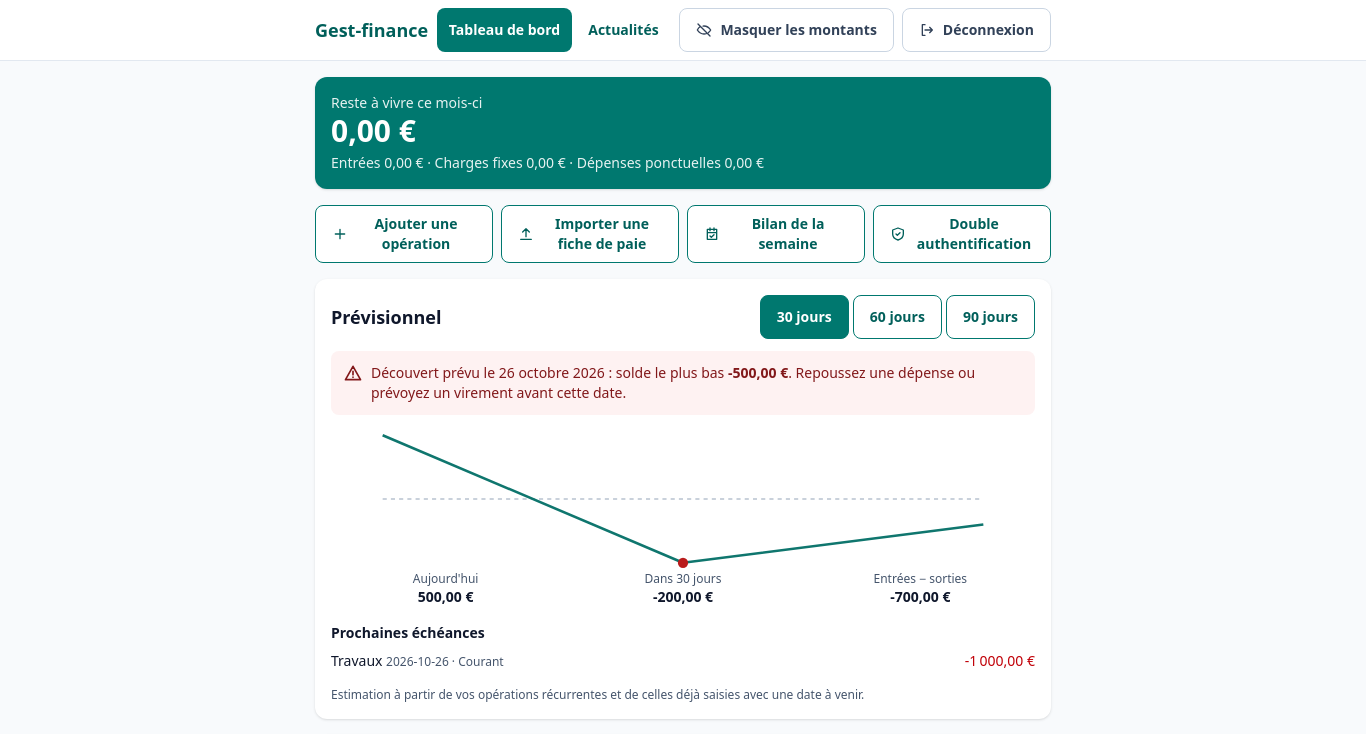
prévisionnel et objectifs › alerte d'un découvert prévu, change d'horizon et affiche les prochaines échéances
The width and height of the screenshot is (1366, 734).
Expected: the message shows "Découvert prévu le 26 octobre 2026", left=331, top=351, right=1035, bottom=415
Expected: the text "Travaux" is shown, left=331, top=651, right=382, bottom=670
Click the button "60 jours" at (897, 317), box left=853, top=295, right=942, bottom=339
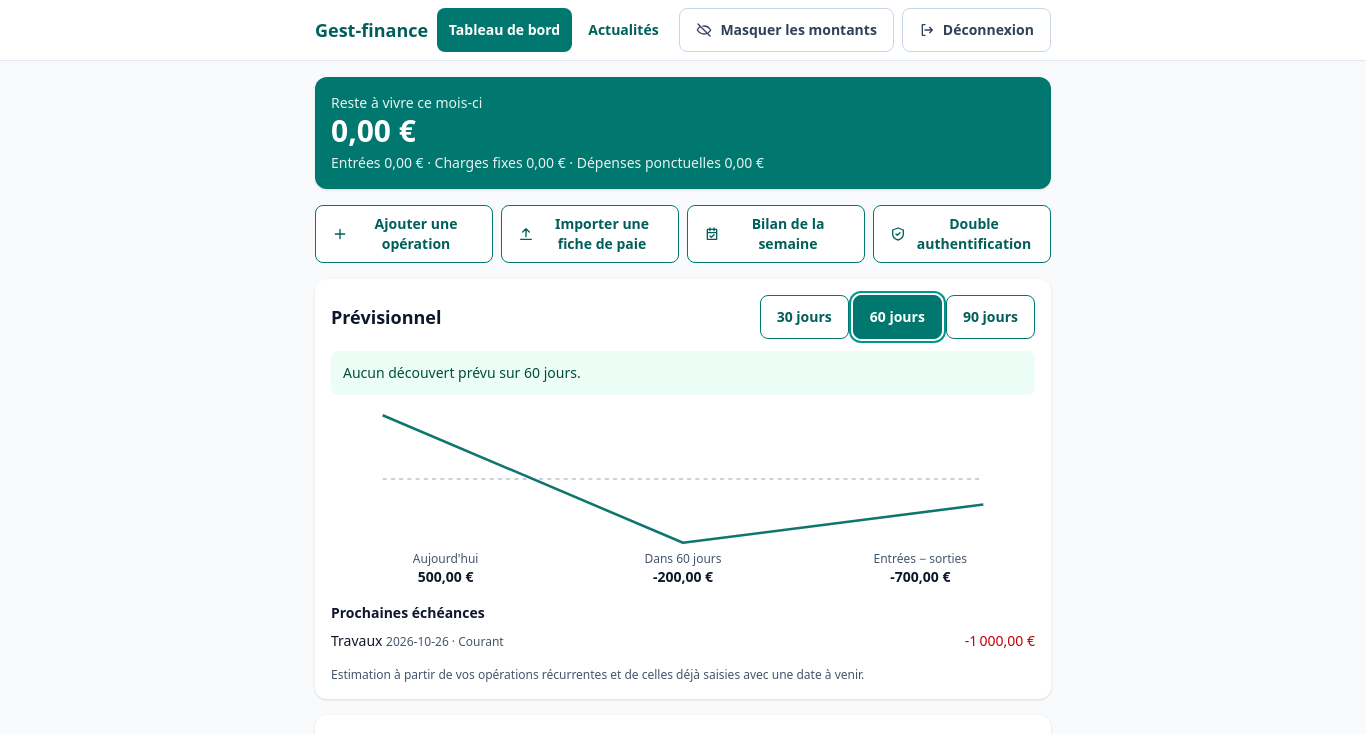
Result: the text "Aucun découvert prévu sur 60 jours." is shown at left=331, top=351, right=1035, bottom=395
